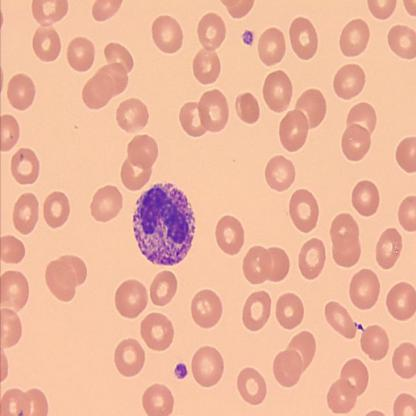Band Neutrophil: (129, 180, 199, 268)
